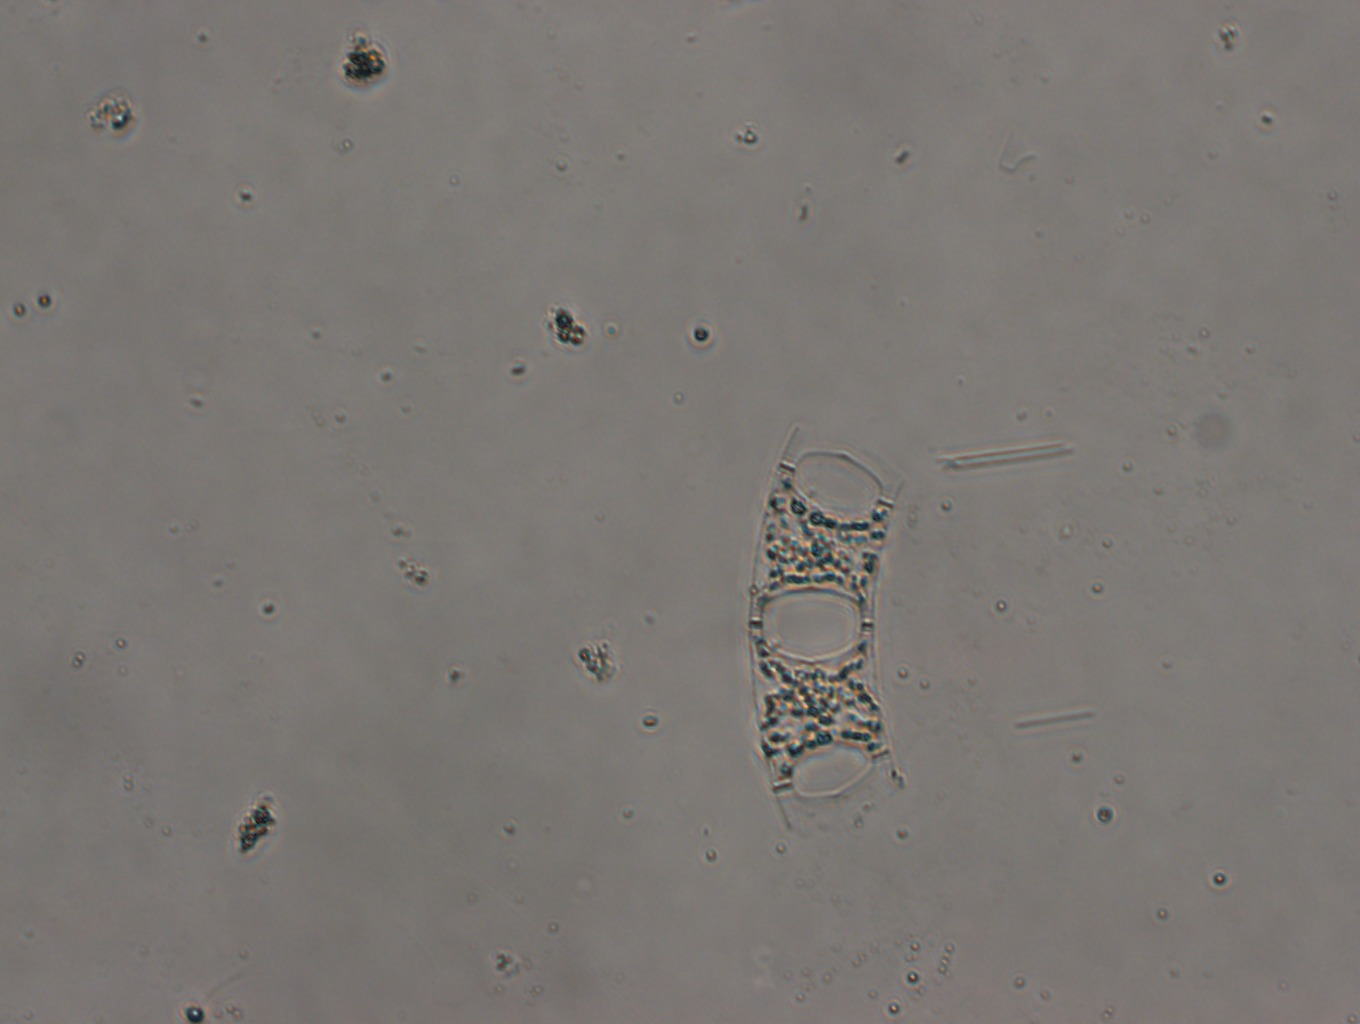eucampia: (744, 415, 908, 842)
